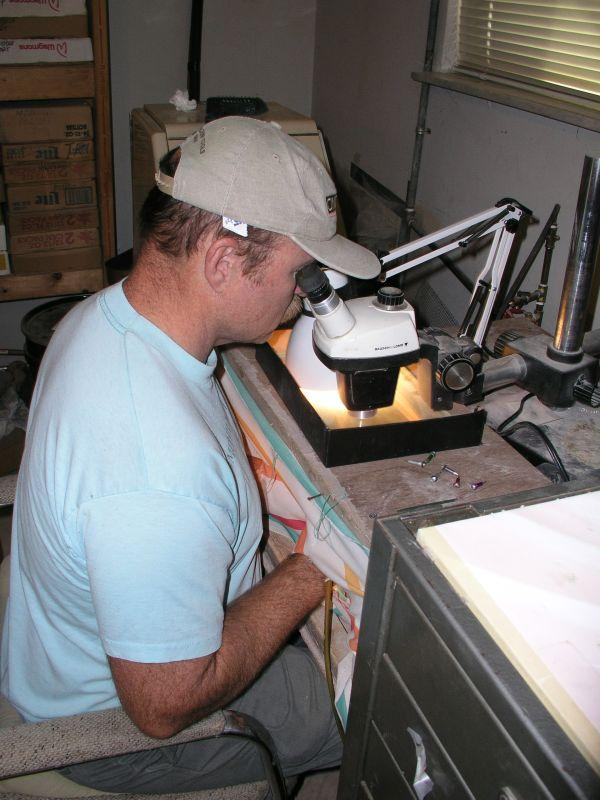person: (9, 119, 348, 783)
